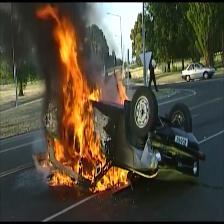fire: (36, 4, 131, 193), (118, 80, 131, 106)
